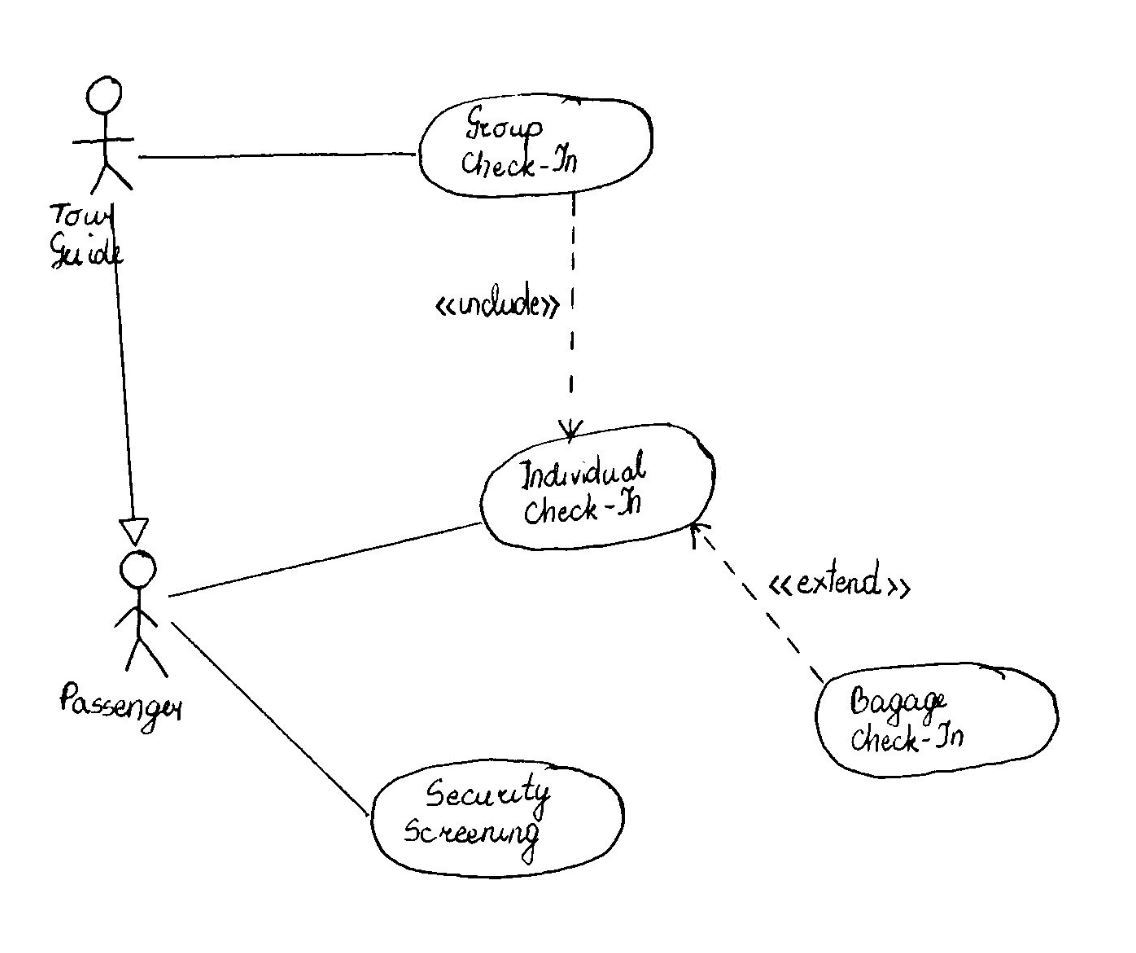actor: (112, 550, 172, 684), (74, 73, 135, 197)
association: (169, 621, 368, 819), (166, 515, 481, 597), (693, 522, 820, 680), (108, 211, 159, 549), (135, 125, 416, 176), (556, 195, 586, 437)
text: (402, 771, 570, 869), (459, 103, 599, 182), (848, 682, 969, 762), (515, 460, 665, 521), (45, 678, 188, 740), (408, 273, 567, 325), (765, 557, 922, 604), (40, 198, 125, 275)
use_case: (477, 420, 716, 554), (367, 757, 625, 880), (813, 660, 1061, 781), (416, 89, 657, 200)
